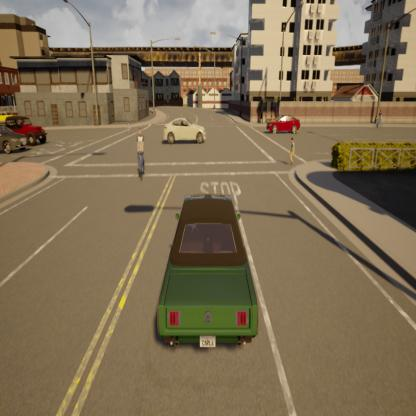Cars: (153, 182, 266, 357), (5, 109, 52, 152), (162, 118, 209, 146), (265, 108, 305, 134), (0, 122, 28, 154), (0, 107, 17, 123)
Pedestrian: (284, 138, 301, 166)
